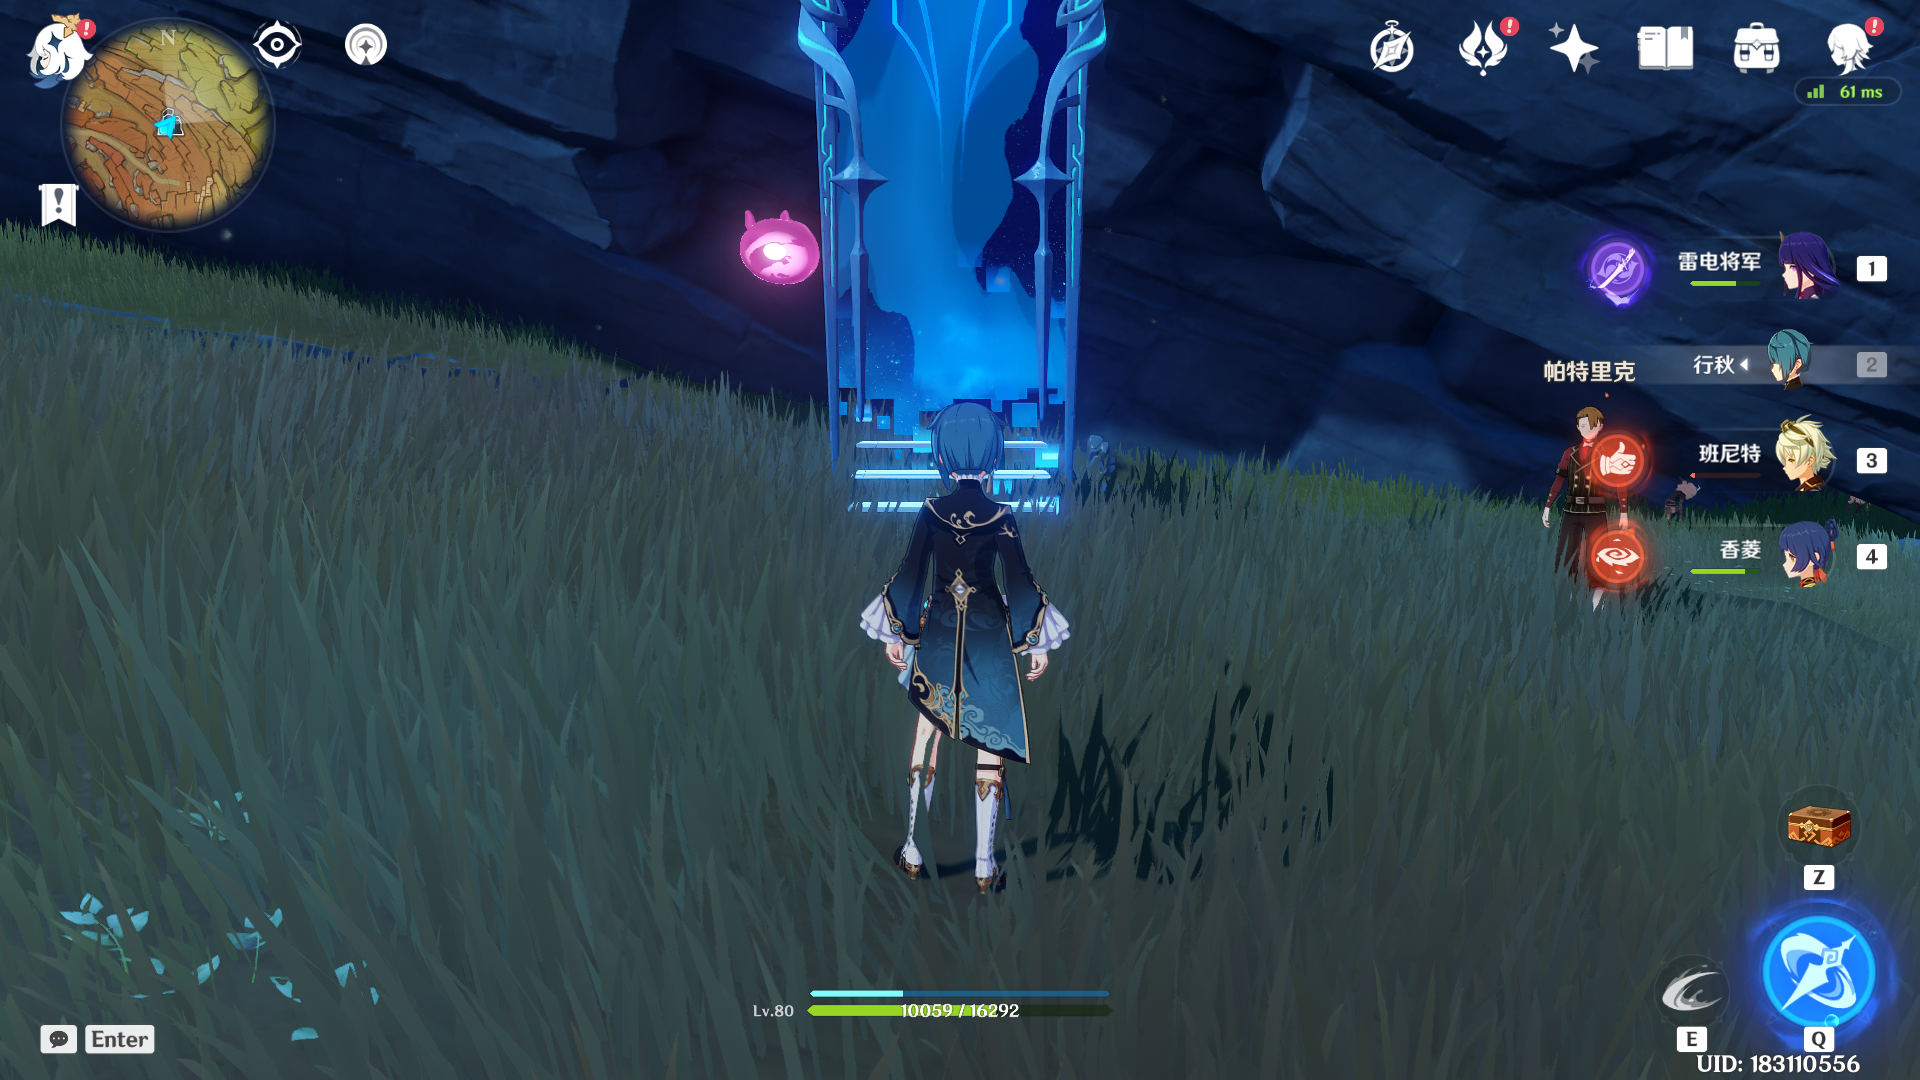character: (775, 373, 1138, 931)
